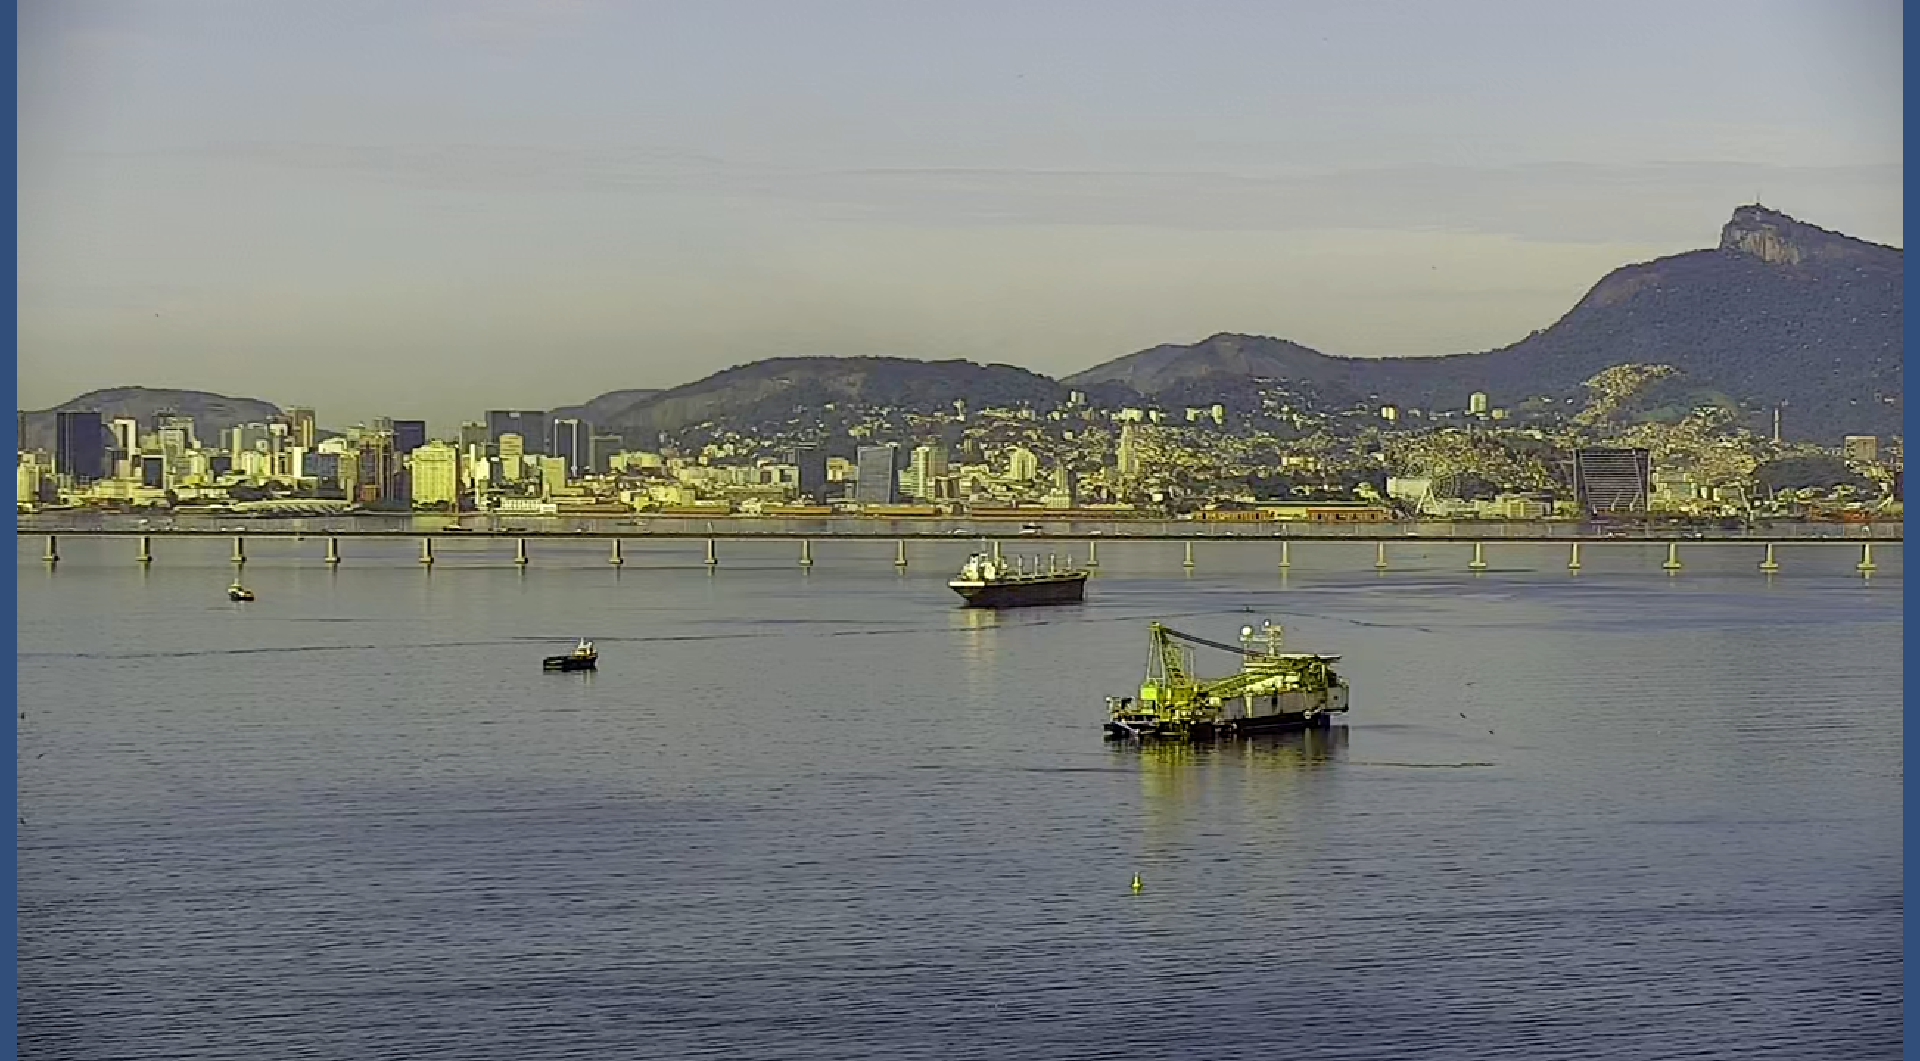Ship2: (946, 549, 1092, 612)
Ship5: (539, 635, 602, 674), (227, 579, 253, 601)
Ship8: (1102, 618, 1358, 751)
